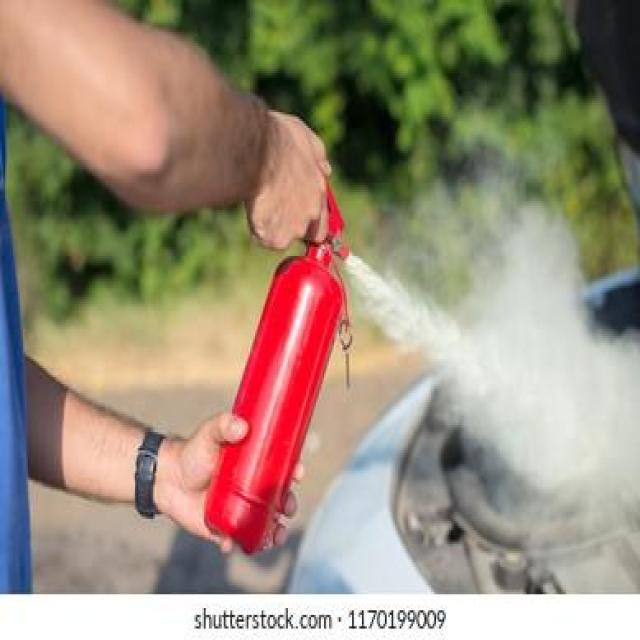fire_extinguisher: (199, 142, 365, 555)
